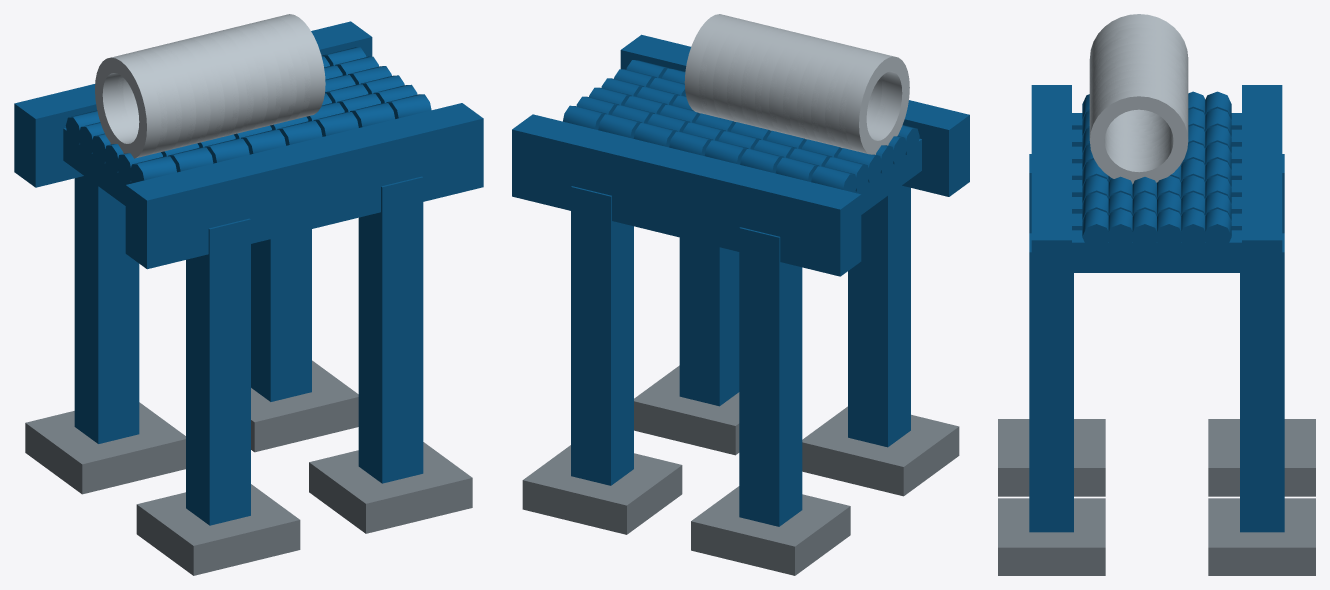
File: back_ring_short_table.dae
3 views of the same model, side by side, from view 1: azimuth 30°, elevation 25°; view 2: azimuth 150°, elevation 25°; view 3: azimuth 270°, elevation 25° (orthographic). The views are drawn at different scales.
Visible parts, largest first — view 1: back_ring_short_table; view 2: back_ring_short_table; view 3: back_ring_short_table.
Part boxes in pixels (x1=…): back_ring_short_table: x1=14, y1=14, x2=483, y2=575; back_ring_short_table: x1=512, y1=14, x2=969, y2=575; back_ring_short_table: x1=998, y1=14, x2=1315, y2=575.
Size of the model in its own units: 0.82 by 0.71 by 1.07.
